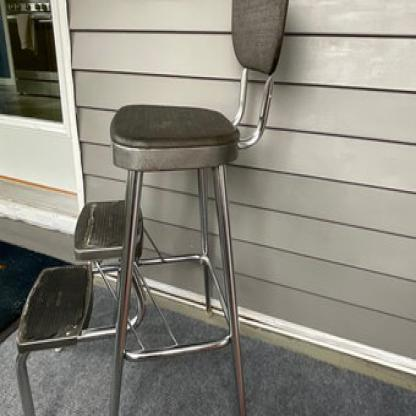chair: (107, 0, 304, 416)
